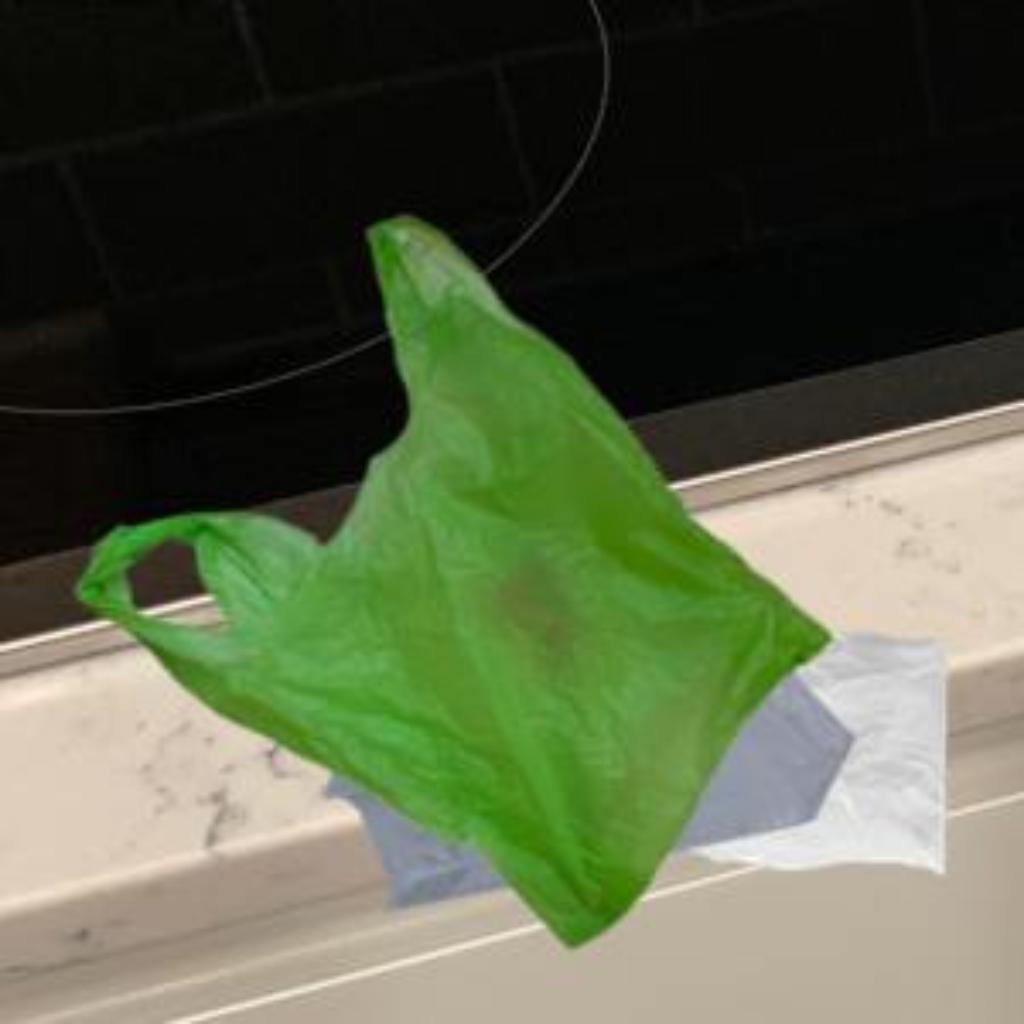garbage: (183, 251, 725, 913), (712, 567, 978, 901)
